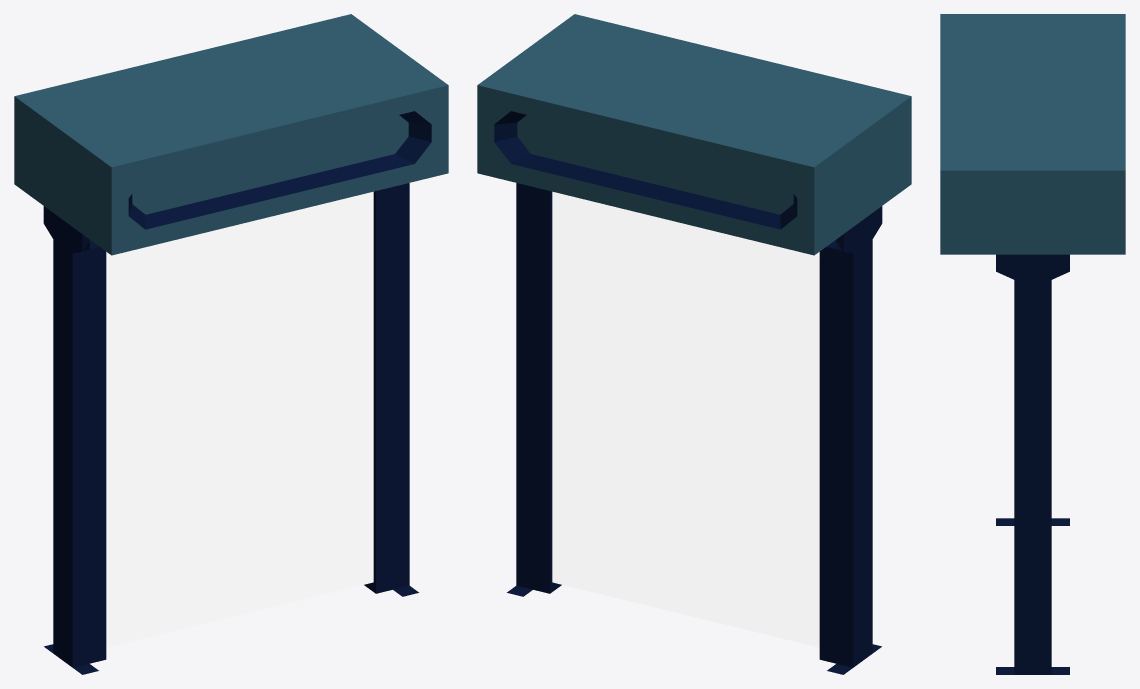
The model's file is energy_barrier.glb.
The picture shows the model from 3 angles, left to right: view 1: azimuth 30°, elevation 25°; view 2: azimuth 150°, elevation 25°; view 3: azimuth 270°, elevation 25°; orthographic projection. The views are drawn at different scales.
Parts seen in each view (by area): view 1: Door; view 2: Door; view 3: Door.
Boxes of the visible parts, x1,y1,x2,y2 form: Door: (14, 14, 448, 674); Door: (477, 14, 911, 674); Door: (940, 14, 1125, 674).
Bounding box in the file's own units: 2 × 3 × 1.
2 materials, 1 textured.
